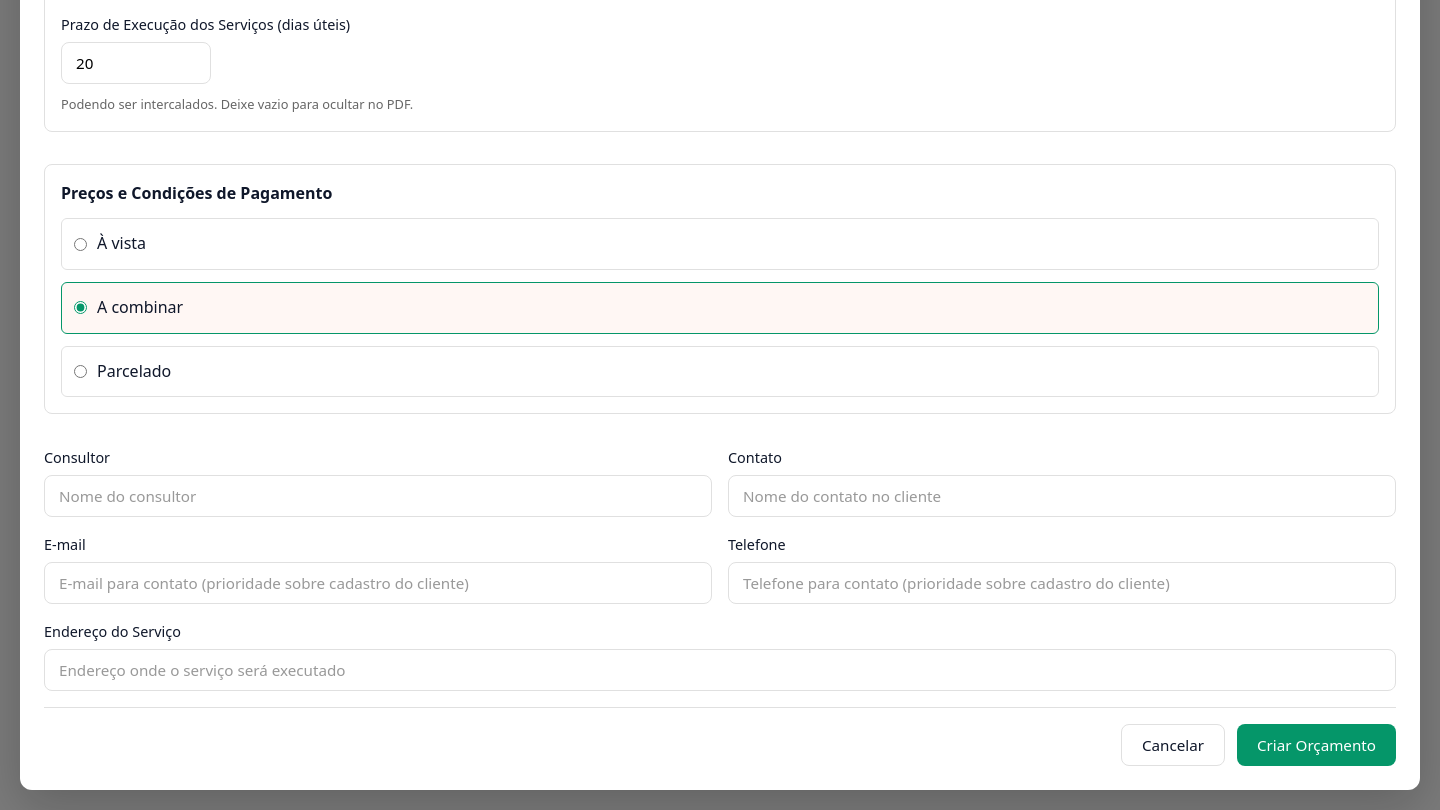
Test: OrcamentoModal › Validação de orçamento simples › deve mostrar erro quando cliente não selecionado
(page scrolled)
Click the button "Criar Orçamento". click: click(1316, 745)
box: [1237, 724, 1396, 766]
(page scrolled)
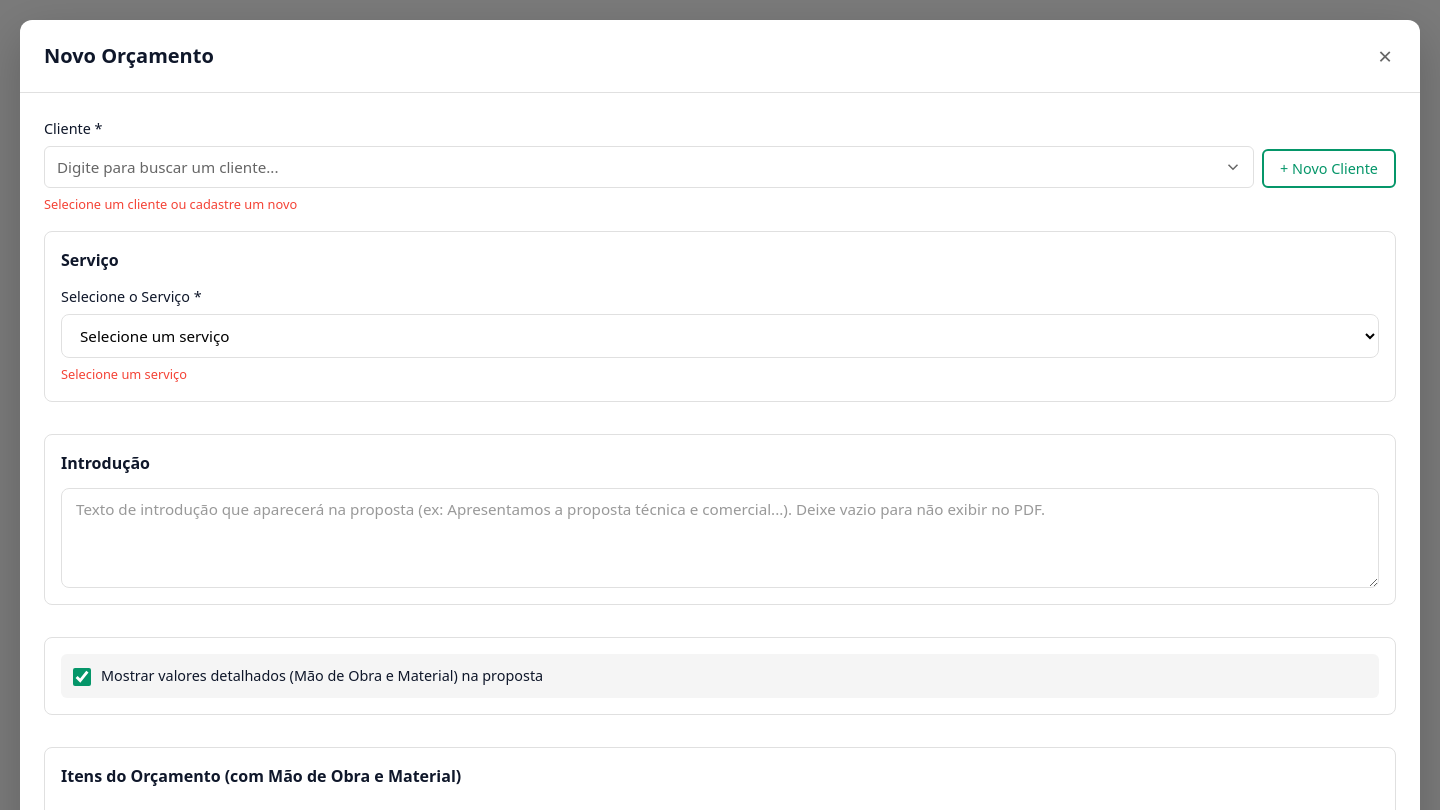
Now the text "Selecione um cliente ou cadastre um novo" is shown, box [44, 195, 297, 213]
